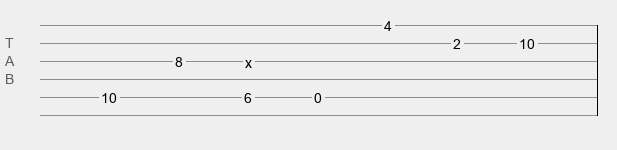0: (314, 90, 322, 100)
10: (101, 90, 117, 100), (519, 36, 535, 46)
2: (453, 36, 461, 46)
4: (384, 18, 392, 28)
6: (244, 90, 252, 100)
8: (175, 54, 183, 64)
x: (245, 55, 252, 63)
